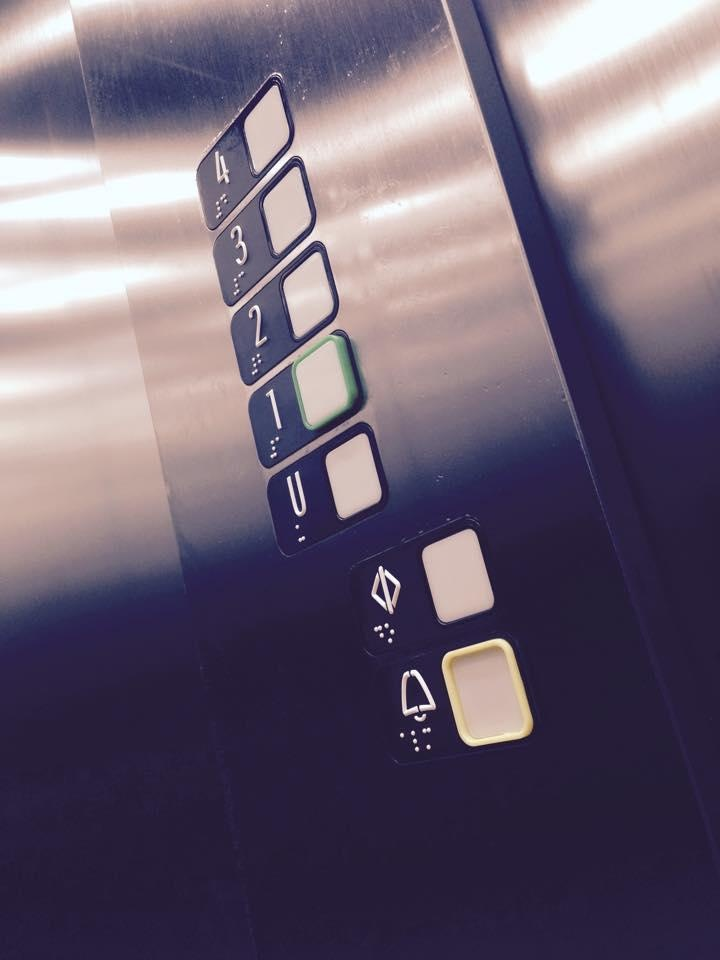1: (247, 326, 369, 473)
2: (228, 237, 342, 389)
3: (210, 152, 320, 311)
4: (194, 68, 297, 232)
U: (264, 418, 387, 562)
alarm: (369, 625, 545, 772)
open: (345, 509, 507, 664)
